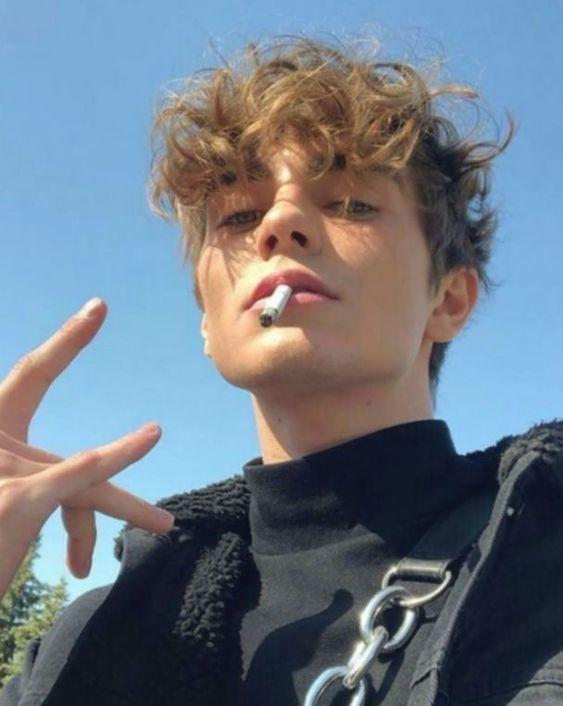cigarette: (258, 284, 295, 329)
